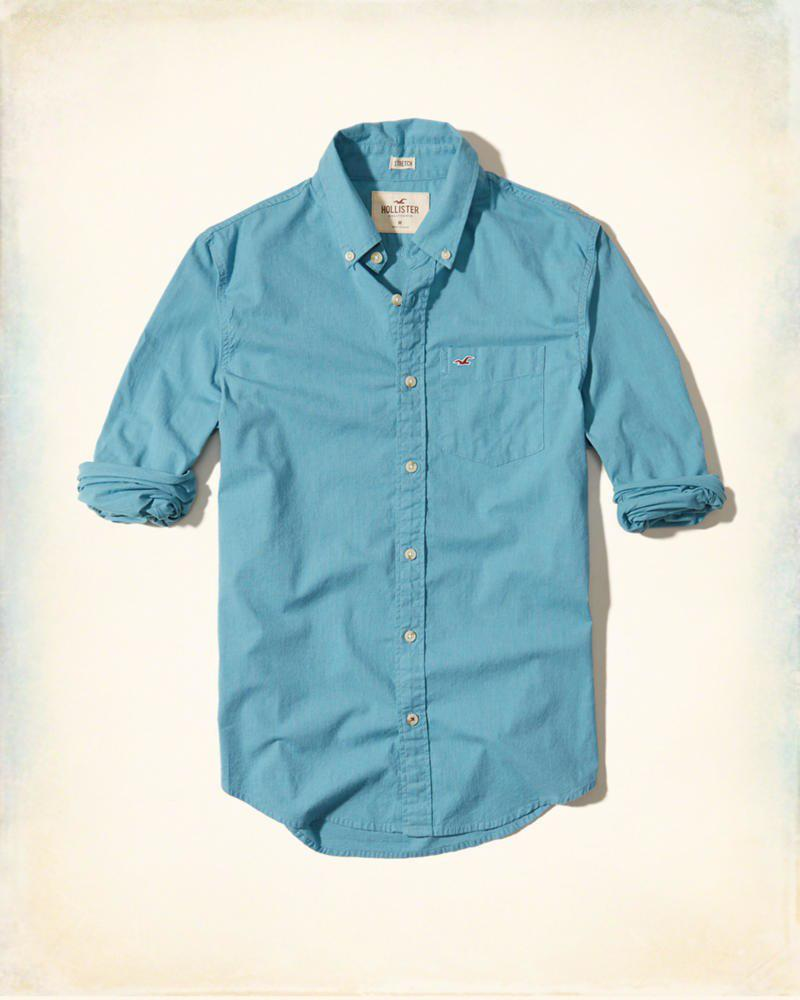teeshirt: (91, 112, 712, 863)
